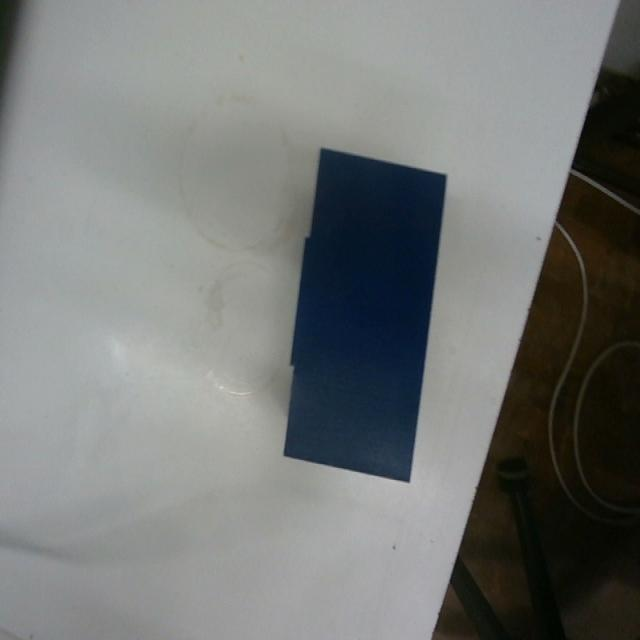Blue Cuboid: (281, 143, 448, 484)
